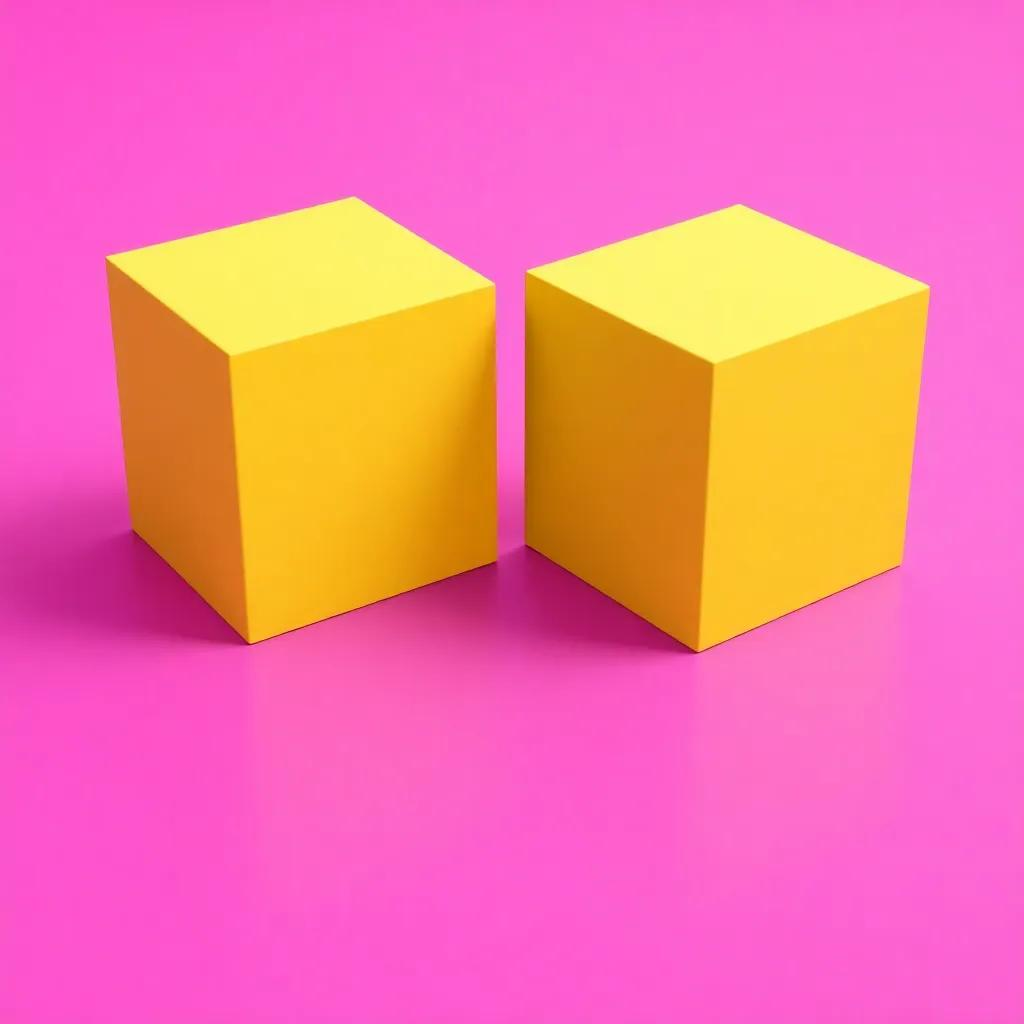cube: (522, 201, 930, 653), (103, 194, 498, 644)
